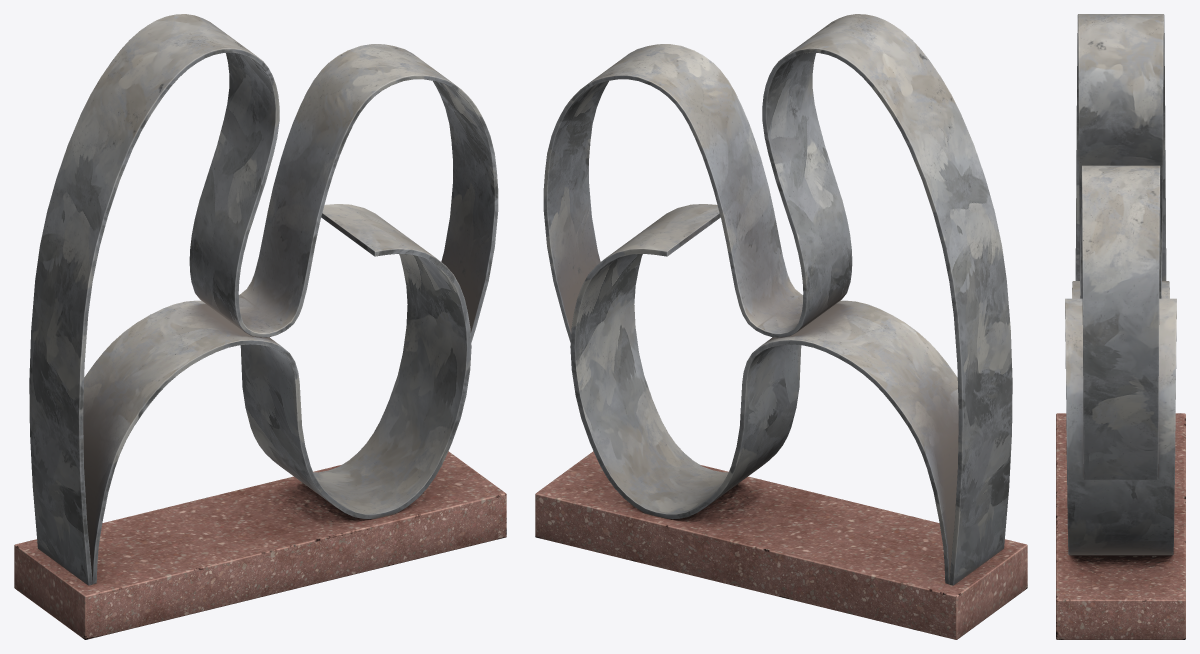
File: FavoriteGraces.glb
The picture shows the model from 3 angles, left to right: view 1: azimuth 30°, elevation 25°; view 2: azimuth 150°, elevation 25°; view 3: azimuth 270°, elevation 25°; orthographic projection. The views are drawn at different scales.
Parts seen in each view (by area): view 1: FavoriteGraces_low; view 2: FavoriteGraces_low; view 3: FavoriteGraces_low.
Part boxes in pixels (left/top/right/bottom): FavoriteGraces_low: left=14, top=14, right=506, bottom=639; FavoriteGraces_low: left=535, top=14, right=1027, bottom=639; FavoriteGraces_low: left=1056, top=14, right=1185, bottom=639.
Bounding box in the file's own units: 3.17 × 3.87 × 0.9144.
Materials: 1 (1 with a texture image).
